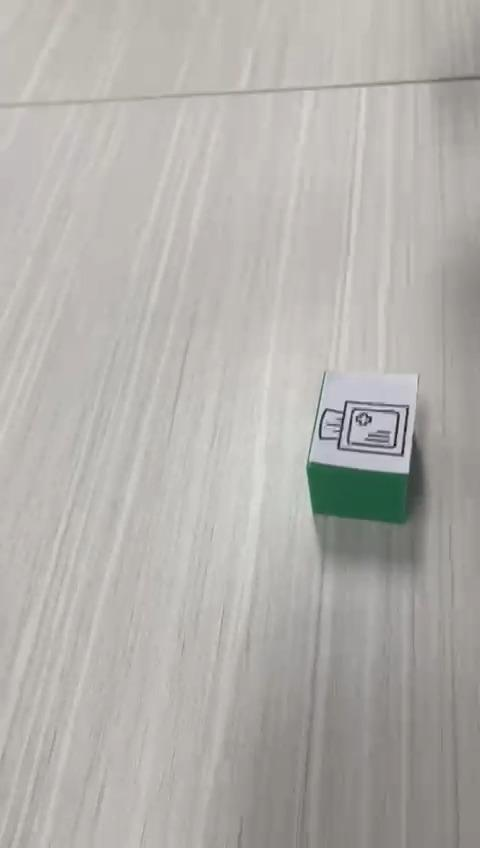Gauze: (305, 368, 419, 524)
